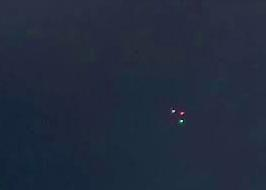Plane: (159, 100, 198, 128)
